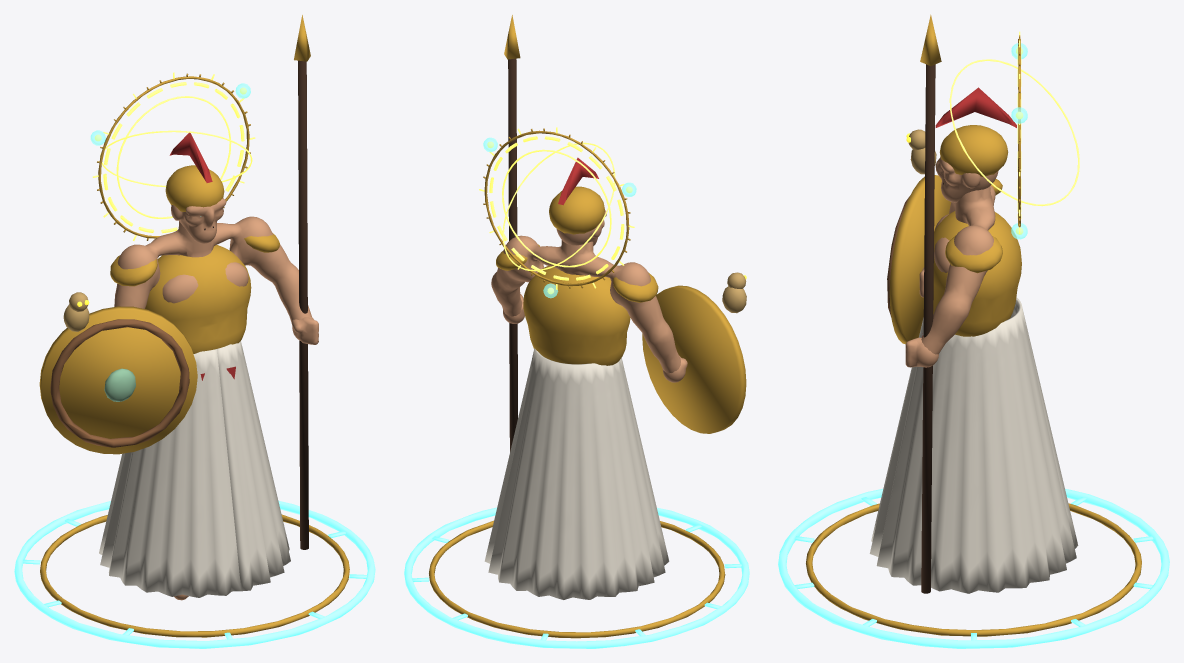
The model's file is athena.glb.
3 views of the same model, side by side, from view 1: azimuth 30°, elevation 25°; view 2: azimuth 150°, elevation 25°; view 3: azimuth 270°, elevation 25° (orthographic). The views are drawn at different scales.
Parts seen in each view (by area): view 1: white, gold, skin, ether, wood_dark, bronze_skin, sun.001, jade, team, sand; view 2: white, gold, skin, ether, sun.001, wood_dark, sand, team, ether_veil; view 3: white, gold, skin, ether, wood_dark, sun.001, team, sand, ether_veil.
Boxes of the visible parts, x1,y1,x2,y2 form: white: (99, 341, 290, 597); gold: (39, 15, 349, 637); skin: (114, 198, 318, 600); ether: (14, 216, 375, 648); wood_dark: (298, 60, 308, 549); bronze_skin: (50, 319, 189, 447); sun.001: (92, 72, 255, 240); jade: (104, 368, 135, 401); team: (169, 132, 235, 380); sand: (63, 292, 89, 331); white: (484, 348, 669, 599); gold: (429, 15, 746, 638); skin: (491, 210, 687, 382); ether: (404, 507, 749, 648); sun.001: (479, 127, 634, 294); wood_dark: (508, 58, 517, 451); sand: (722, 272, 746, 313); team: (558, 157, 598, 205); ether_veil: (483, 137, 636, 298); white: (869, 297, 1078, 593); gold: (806, 14, 1141, 636); skin: (905, 156, 998, 367); ether: (778, 488, 1169, 648); wood_dark: (921, 64, 935, 593); sun.001: (949, 31, 1079, 234); team: (922, 87, 1016, 336); sand: (908, 129, 936, 174); ether_veil: (1011, 43, 1027, 239).
Bounding box in the file's own units: 2.19 × 3.59 × 2.13.
